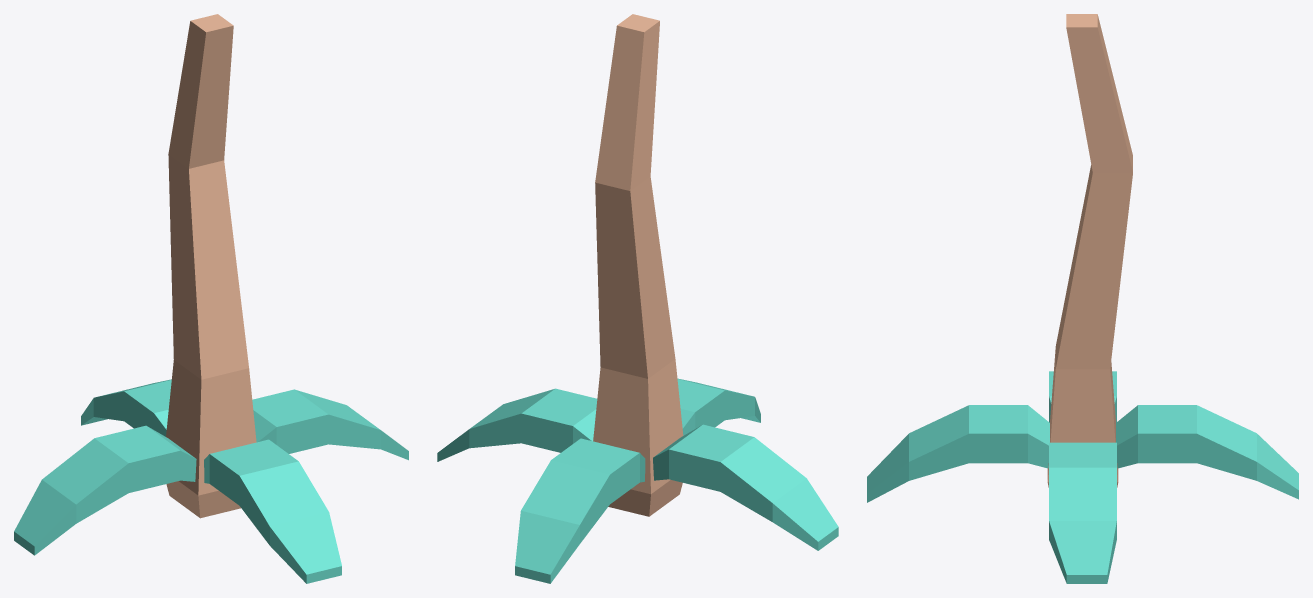
The model's file is tree_palmDetailedTall.glb.
3 renders of one model, left to right at view 1: azimuth 30°, elevation 25°; view 2: azimuth 150°, elevation 25°; view 3: azimuth 270°, elevation 25°, orthographic.
Parts seen in each view (by area): view 1: leafsGreen (×2), woodBark; view 2: leafsGreen (×2), woodBark; view 3: leafsGreen (×2), woodBark.
Part boxes in pixels (x1,y1,x2,y2): leafsGreen (×2): (14,379,408,583); woodBark: (166,14,256,518); leafsGreen (×2): (437,378,838,583); woodBark: (593,14,683,516); leafsGreen (×2): (867,371,1298,583); woodBark: (1047,14,1132,487).
Bounding box in the file's own units: 1.03 × 1.25 × 1.03.
